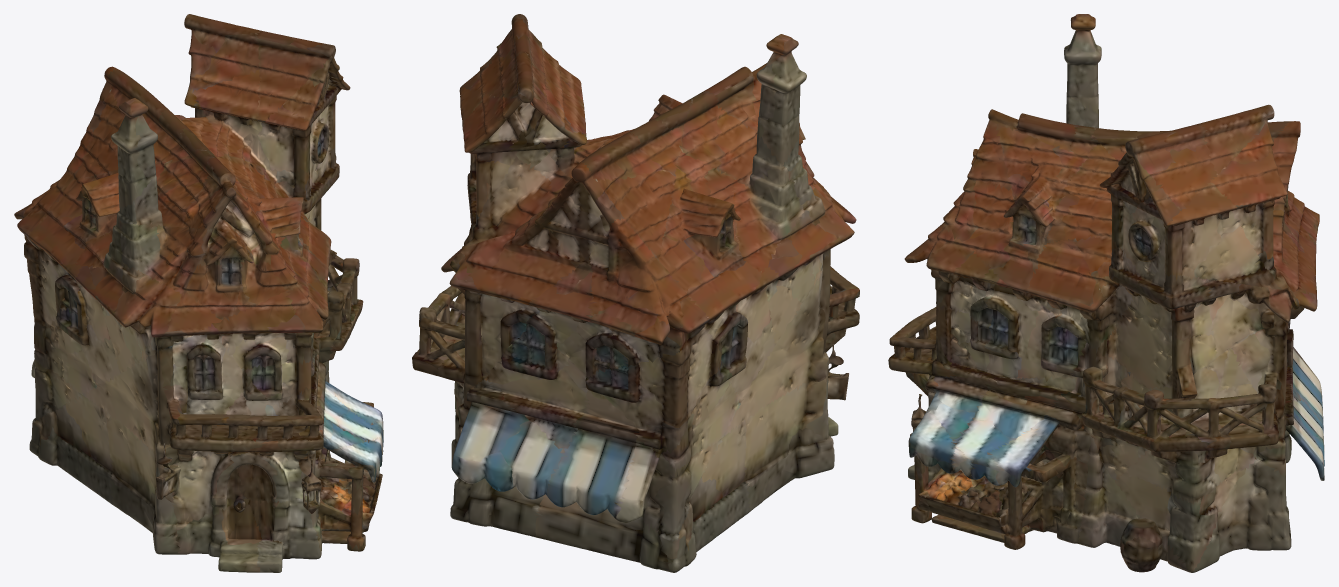
File: big building 1.glb
The picture shows the model from 3 angles, left to right: view 1: azimuth 30°, elevation 25°; view 2: azimuth 150°, elevation 25°; view 3: azimuth 270°, elevation 25°; orthographic projection. The views are drawn at different scales.
Parts seen in each view (by area): view 1: Mesh_0; view 2: Mesh_0; view 3: Mesh_0.
Part boxes in pixels (x1,y1,x2,y2): Mesh_0: [14, 14, 383, 572]; Mesh_0: [412, 14, 859, 572]; Mesh_0: [888, 14, 1324, 572].
Bounding box in the file's own units: 0.8184 × 1.1 × 1.
1 material, 1 textured.
